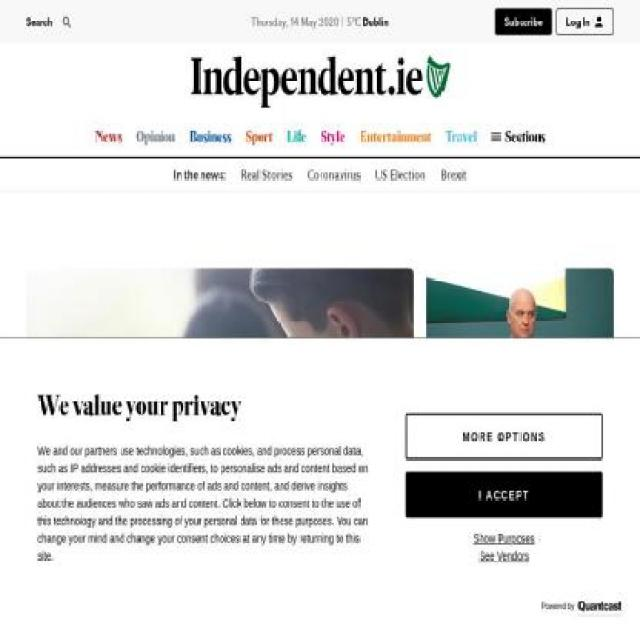button: (26, 268, 414, 560), (426, 418, 614, 602), (26, 570, 414, 639), (426, 268, 614, 408), (191, 55, 449, 108), (406, 413, 602, 459), (406, 472, 602, 518), (415, 529, 593, 548), (415, 547, 593, 565), (399, 0, 472, 42), (359, 117, 432, 157), (489, 117, 545, 157), (12, 12, 117, 33), (228, 0, 272, 42), (241, 158, 293, 191), (308, 158, 360, 191), (374, 158, 426, 191), (189, 117, 231, 157), (176, 0, 215, 42), (555, 8, 614, 35), (494, 8, 552, 35), (136, 117, 175, 157), (485, 0, 517, 42), (445, 117, 478, 157), (135, 0, 162, 42), (285, 0, 312, 42), (245, 117, 273, 157), (95, 117, 122, 157), (360, 0, 385, 42), (321, 117, 345, 157), (441, 158, 467, 191), (326, 0, 346, 42), (288, 117, 306, 157), (577, 600, 621, 615), (362, 14, 389, 28), (61, 12, 73, 32)
field: (26, 12, 57, 32)
